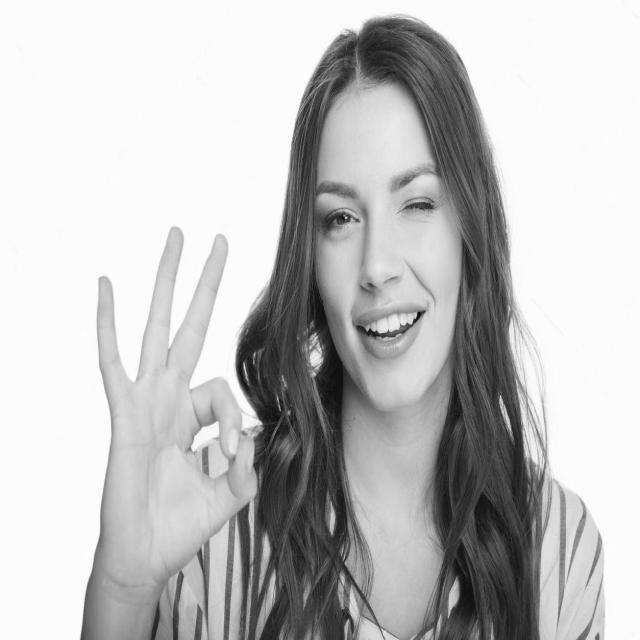perfect: (87, 217, 261, 616)
